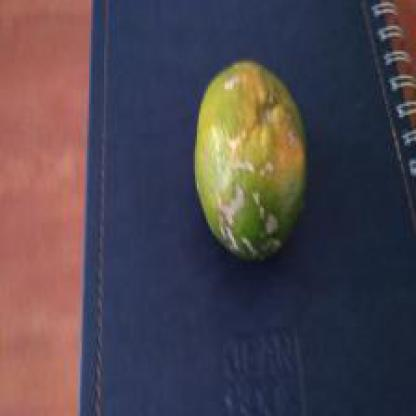orange_rotten: (154, 31, 375, 288)
